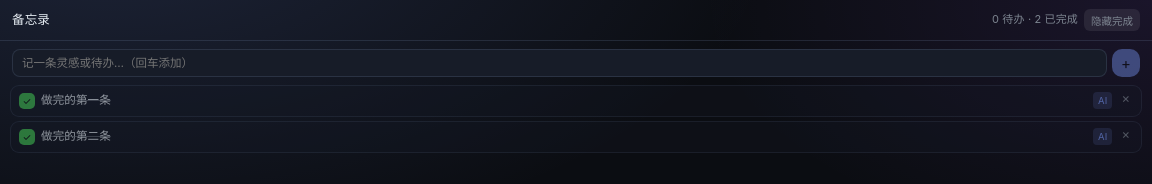
Test case: Memo 面板 › 【关键】折叠后一条不剩时，说的是「被折叠了」而不是「还没有记录」
Expected: the text "做完的第一条" is shown, [41,93,111,107]
Click the button "隐藏完成". click: (1112, 20)
box: [1084,9,1140,31]
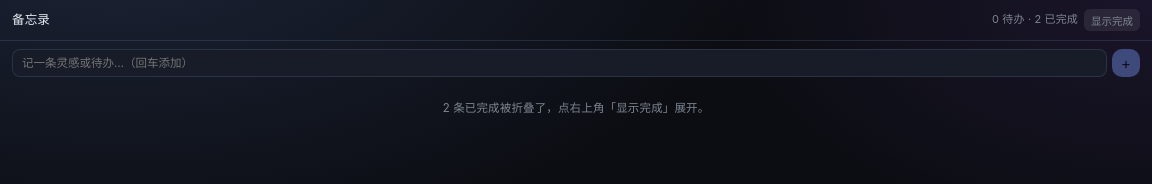
Result: the text "做完的第一条" is gone
Result: the text "2 条已完成被折叠了，点右上角「显示完成」展开。" is shown at [443,101,709,115]
